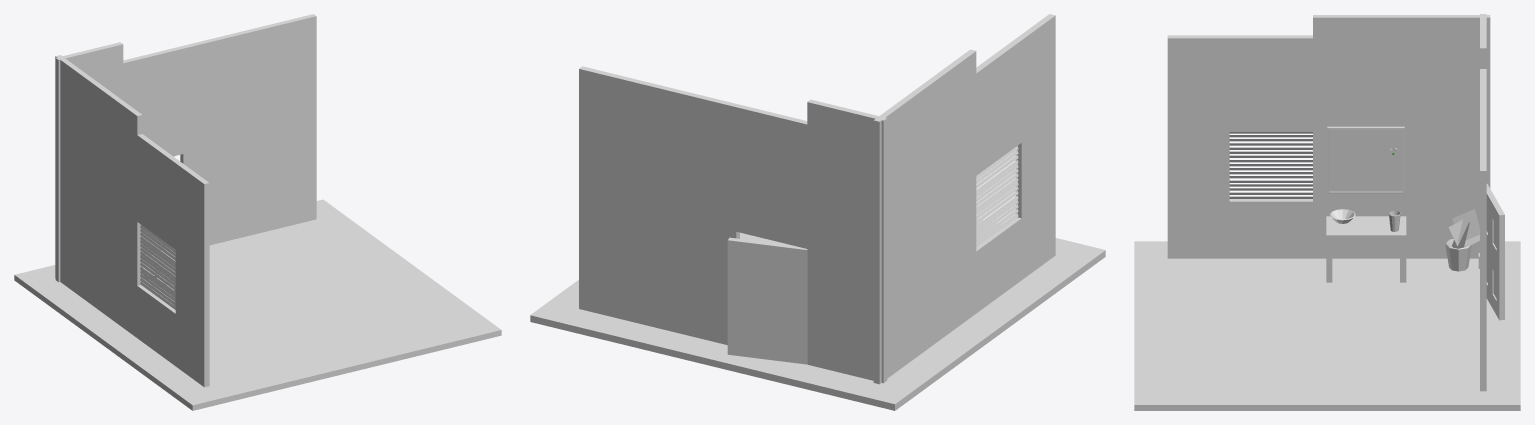
Rendered from menu_scene.fbx.
3 views of the same model, side by side, from view 1: azimuth 30°, elevation 25°; view 2: azimuth 150°, elevation 25°; view 3: azimuth 270°, elevation 25° (orthographic). The views are drawn at different scales.
Parts seen in each view (by area): view 1: floor, wallr, walll, zaves; view 2: wallr, walll, floor, door, zaves; view 3: walll, floor, checkerboard, zaves, wallr, table, door, flowerpot, plant3.
Boxes of the visible parts, x1,y1,x2,y2 form: floor: [14, 199, 501, 410]; wallr: [55, 14, 316, 282]; walll: [55, 55, 209, 387]; zaves: [140, 224, 175, 309]; wallr: [579, 66, 887, 383]; walll: [873, 14, 1055, 384]; floor: [530, 219, 1105, 410]; door: [727, 237, 807, 364]; zaves: [976, 146, 1018, 246]; walll: [1167, 15, 1490, 258]; floor: [1134, 241, 1520, 410]; checkerboard: [1327, 126, 1404, 193]; zaves: [1229, 132, 1312, 198]; wallr: [1480, 14, 1486, 391]; table: [1326, 216, 1406, 282]; door: [1486, 184, 1504, 320]; flowerpot: [1445, 239, 1471, 271]; plant3: [1452, 209, 1479, 243].
Bounding box in the file's own units: 2852 × 2027 × 2852.
Materials: 18 (1 with a texture image).
